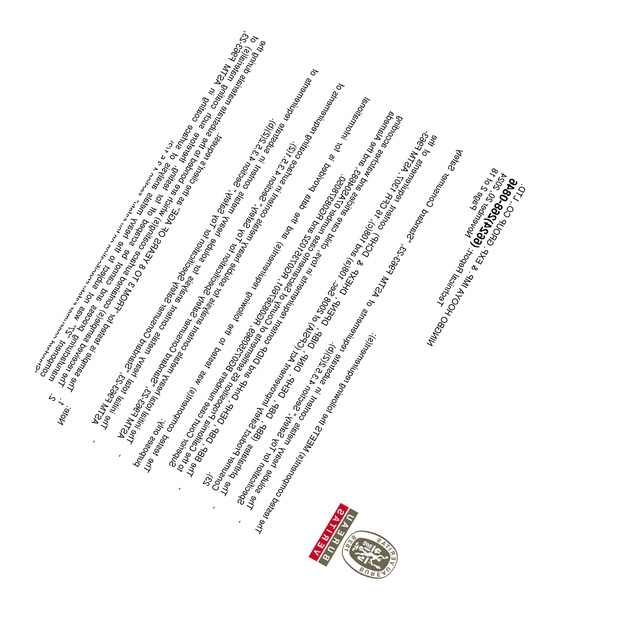bureau_veritas: (308, 498, 399, 585)
